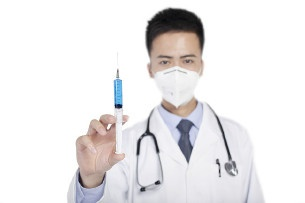Mask: (150, 53, 204, 106)
